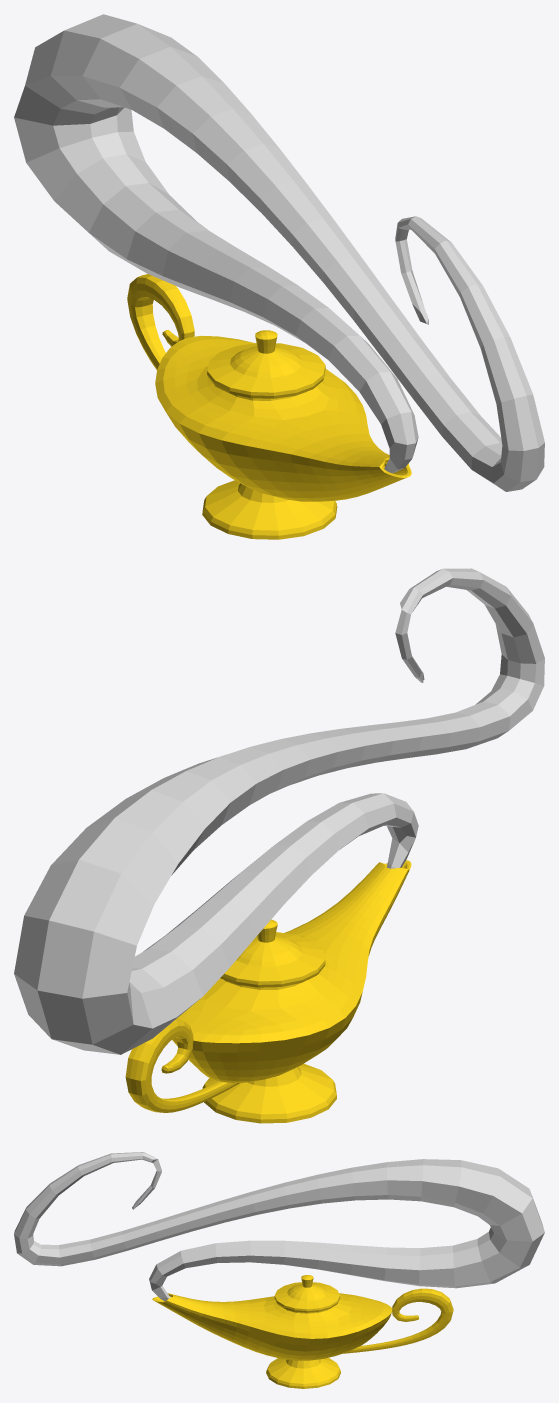
File: lamp1.glb
3 renders of one model, top to bottom at view 1: azimuth 30°, elevation 25°; view 2: azimuth 150°, elevation 25°; view 3: azimuth 270°, elevation 25°, orthographic. The views are drawn at different scales.
Parts seen in each view (by area): view 1: smoke, pot, lid, base, handle; view 2: smoke, pot, base, lid, handle; view 3: smoke, pot, handle, base, lid.
Part boxes in pixels (x1,y1,x2,y2): smoke: (14, 14, 544, 491); pot: (155, 335, 411, 501); lid: (207, 330, 325, 398); base: (202, 480, 337, 539); handle: (127, 274, 194, 369); smoke: (14, 568, 544, 1054); pot: (172, 860, 411, 1082); base: (202, 1063, 336, 1123); lid: (220, 919, 325, 987); handle: (125, 1018, 239, 1112); smoke: (14, 1152, 544, 1301); pot: (152, 1293, 392, 1360); handle: (343, 1288, 453, 1353); base: (266, 1358, 340, 1388); lid: (274, 1275, 340, 1312).
Size of the model in its own units: 3 by 6.92 by 15.08.
